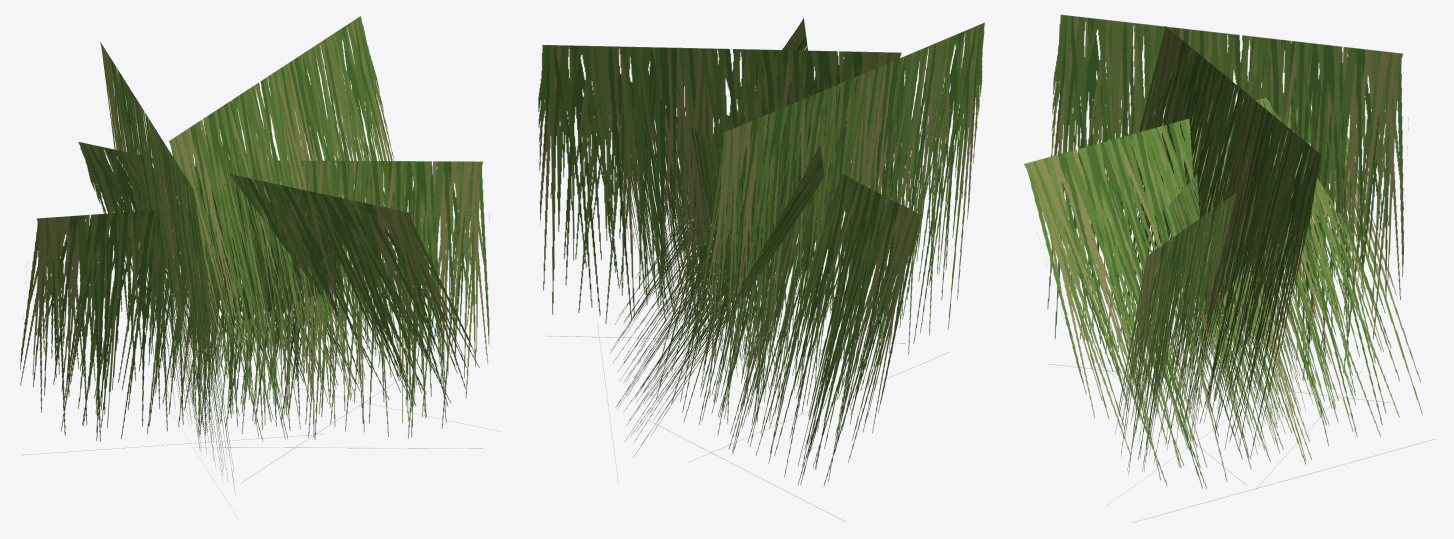
File: grass_tuft.glb
3 views of the same model, side by side, from view 1: azimuth 30°, elevation 25°; view 2: azimuth 150°, elevation 25°; view 3: azimuth 270°, elevation 25° (orthographic). The views are drawn at different scales.
Visible parts, largest first — view 1: grass_tuft; view 2: grass_tuft; view 3: grass_tuft.
Part boxes in pixels (box(x1,y1,x2,y2)): grass_tuft: box(20, 16, 489, 495); grass_tuft: box(538, 18, 984, 519); grass_tuft: box(1024, 14, 1434, 522).
Bounding box in the file's own units: 0.9392 × 0.843 × 0.8785.
Materials: 1 (1 with a texture image).
